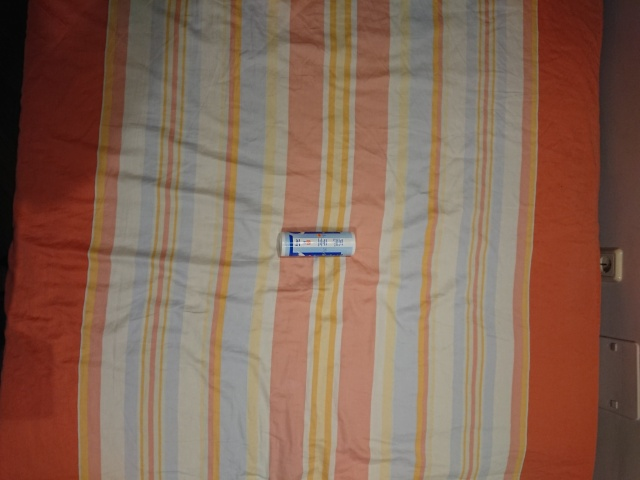Solana Pag Fine Sea Salt 250g: (276, 230, 358, 259)
